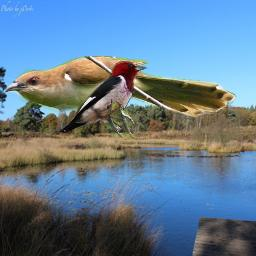Cuckoo: (4, 56, 237, 138)
Woodpecker: (54, 60, 149, 133)
